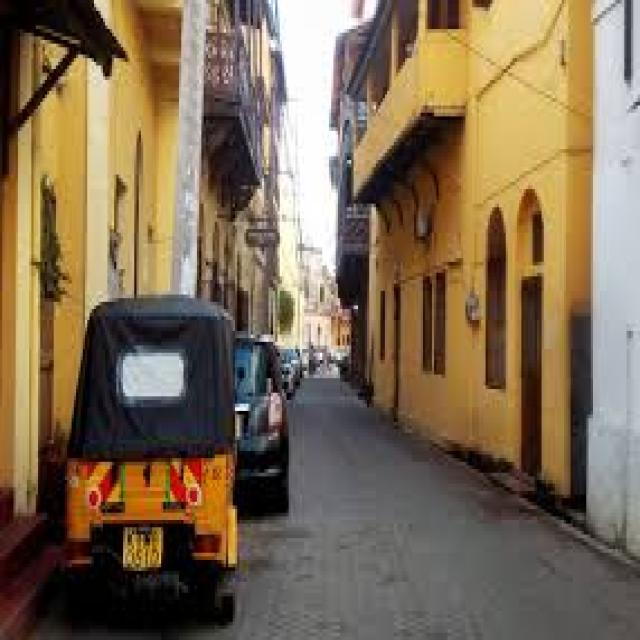tuktuk: (50, 256, 269, 640)
